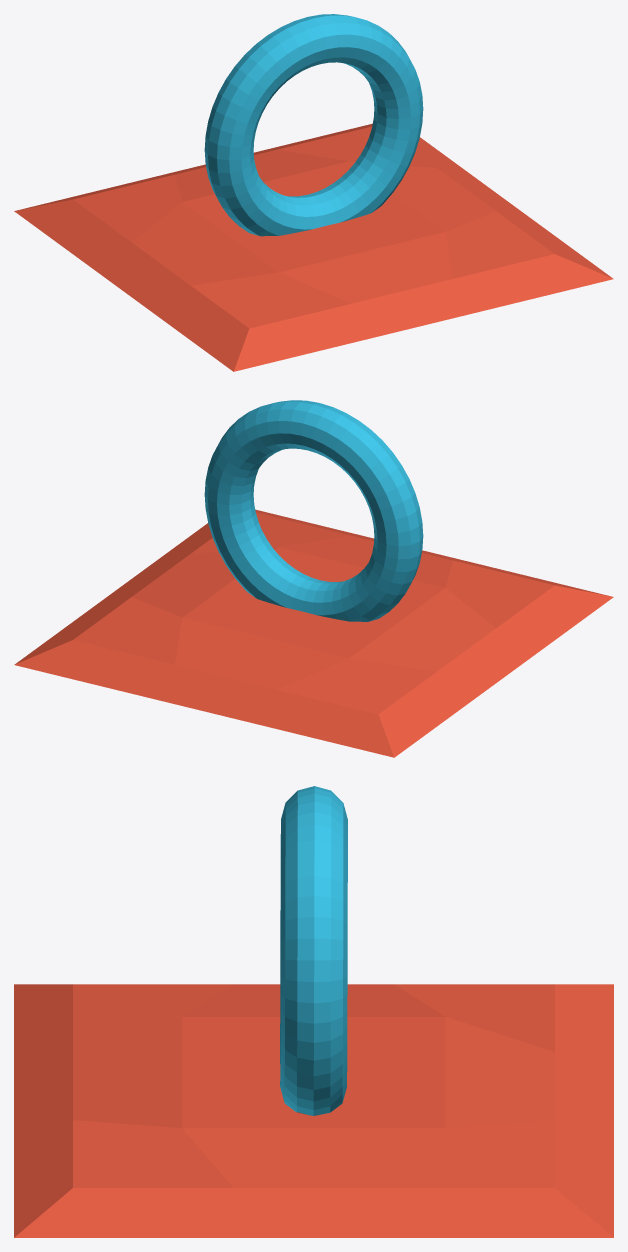
The model's file is portal.fbx.
3 renders of one model, top to bottom at view 1: azimuth 30°, elevation 25°; view 2: azimuth 150°, elevation 25°; view 3: azimuth 270°, elevation 25°, orthographic. The views are drawn at different scales.
Visible parts, largest first — view 1: Portal; view 2: Portal; view 3: Portal.
Part boxes in pixels (x1,y1,x2,y2): Portal: (14, 14, 613, 371); Portal: (14, 400, 613, 757); Portal: (14, 786, 613, 1237).
Size of the model in its own units: 935 by 532 by 935.
